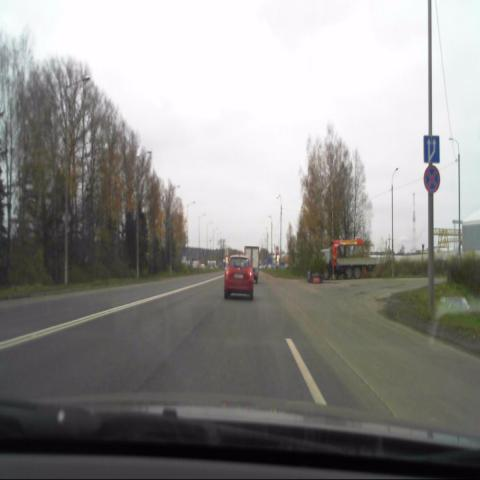5_15_3: (423, 135, 441, 164)
